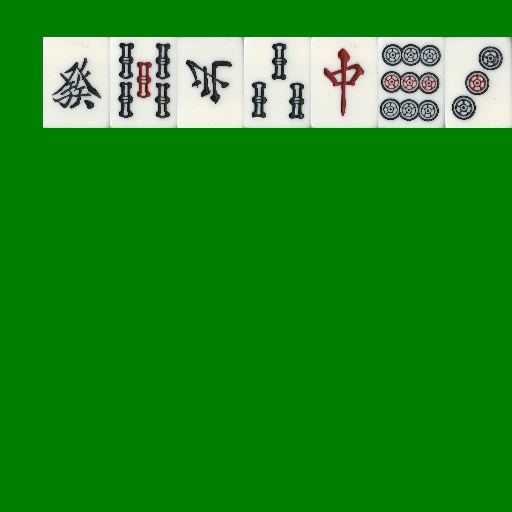3p: (445, 37, 512, 128)
3s: (244, 37, 311, 128)
5s: (110, 37, 177, 128)
9p: (378, 37, 445, 128)
hatsu: (43, 37, 110, 128)
north: (177, 37, 244, 128)
tyun: (311, 37, 378, 128)
